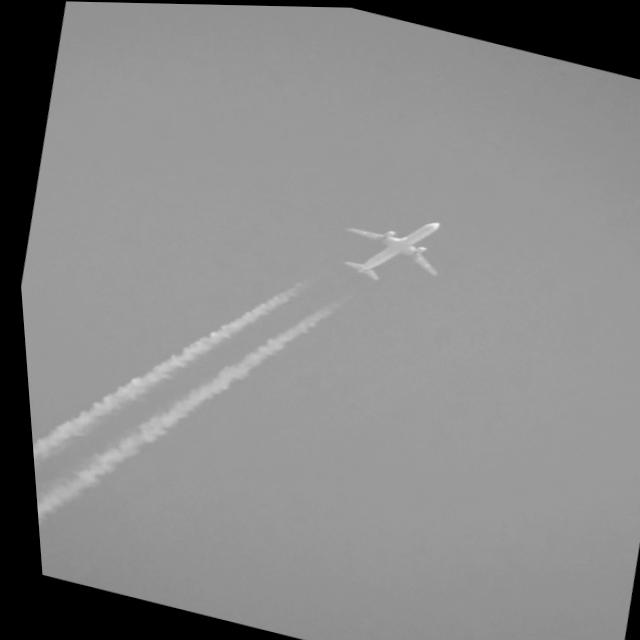aeroplane: (319, 193, 453, 297)
